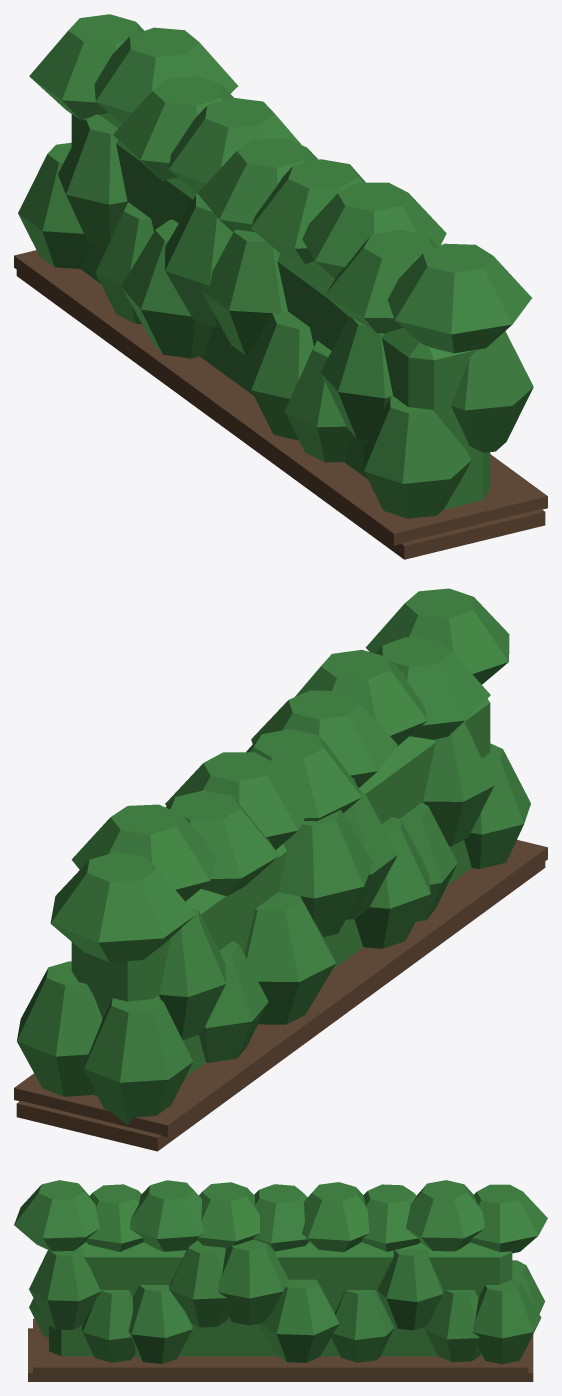
Rendered from Hedge.glb.
3 views of the same model, one above another, from view 1: azimuth 30°, elevation 25°; view 2: azimuth 150°, elevation 25°; view 3: azimuth 270°, elevation 25° (orthographic). The views are drawn at different scales.
Visible parts, largest first — view 1: Body; view 2: Body; view 3: Body.
Boxes of the visible parts, box(x1,y1,x2,y2) form: Body: box(14, 14, 547, 559); Body: box(14, 588, 547, 1151); Body: box(14, 1180, 547, 1381).
Bounding box in the file's own units: 1.22 × 1.54 × 4.33.
